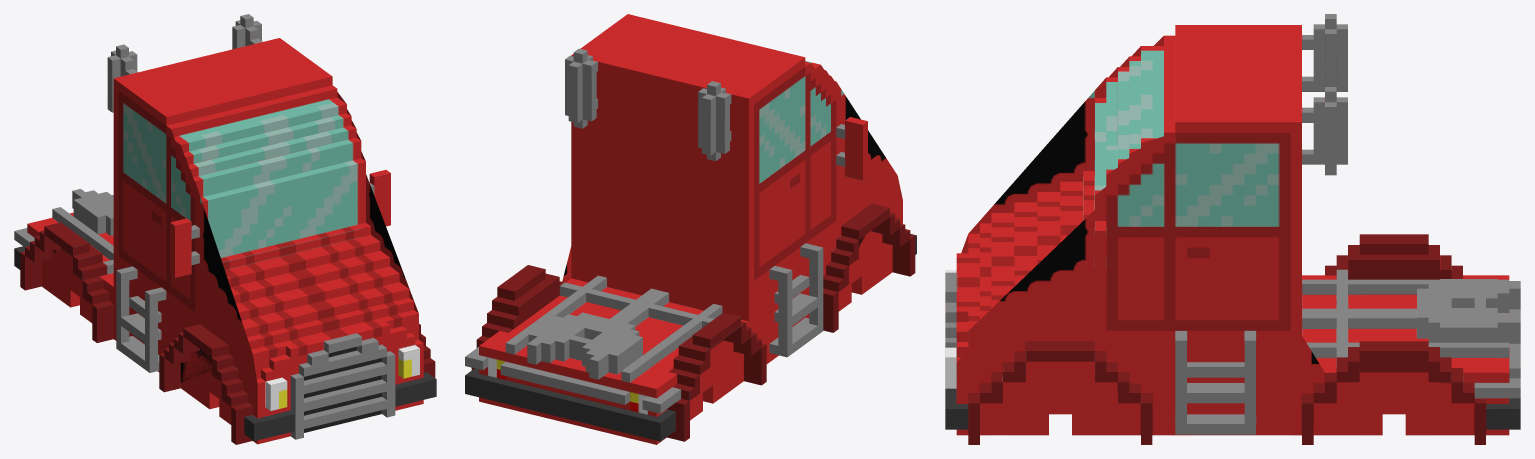
File: Trailer_Var1_2.obj
3 views of the same model, side by side, from view 1: azimuth 30°, elevation 25°; view 2: azimuth 150°, elevation 25°; view 3: azimuth 270°, elevation 25° (orthographic). The views are drawn at different scales.
Visible parts, largest first — view 1: Trailer_Var1_2_Trailer_Var1_2.001; view 2: Trailer_Var1_2_Trailer_Var1_2.001; view 3: Trailer_Var1_2_Trailer_Var1_2.001.
Part boxes in pixels (x1=…): Trailer_Var1_2_Trailer_Var1_2.001: x1=14, y1=14, x2=436, y2=444; Trailer_Var1_2_Trailer_Var1_2.001: x1=465, y1=14, x2=916, y2=444; Trailer_Var1_2_Trailer_Var1_2.001: x1=945, y1=14, x2=1520, y2=444.
Bounding box in the file's own units: 2.6 × 3.2 × 5.
